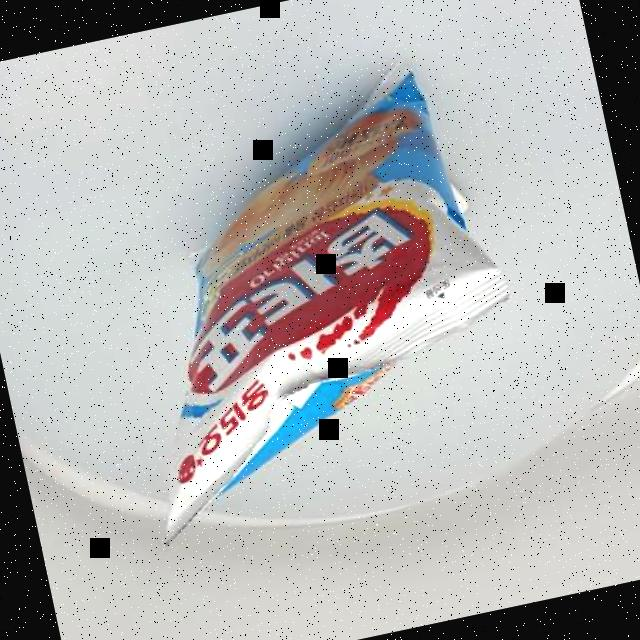snack_bag: (54, 21, 560, 575)
